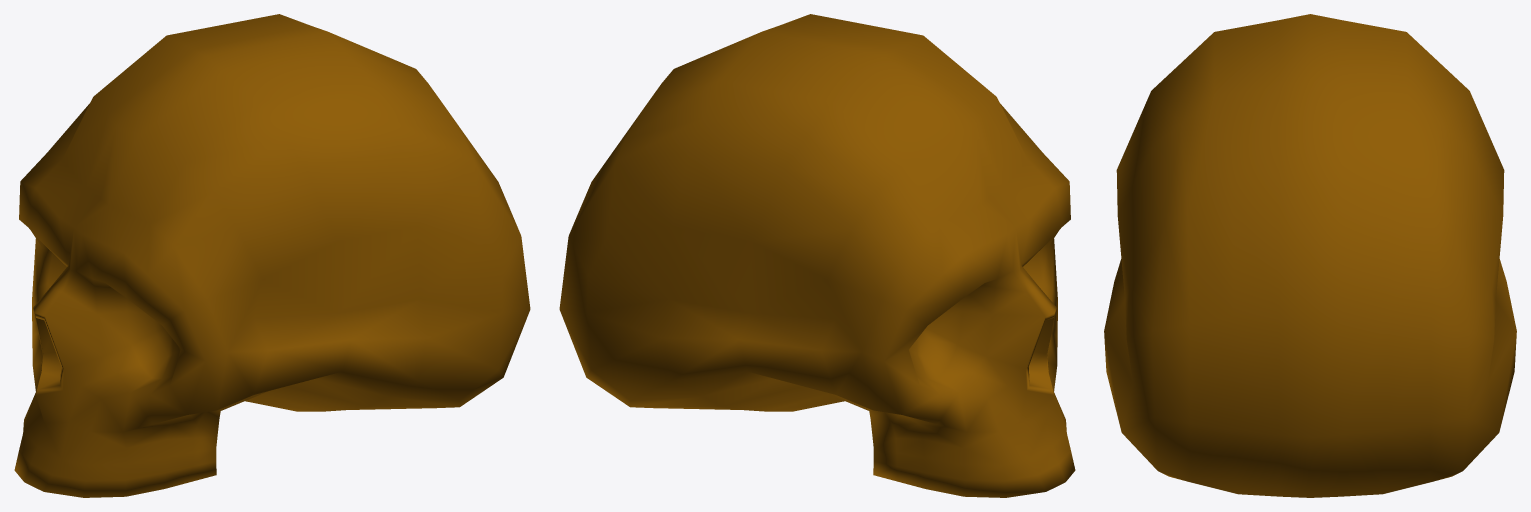
File: Skull_A.fbx
The picture shows the model from 3 angles, left to right: view 1: azimuth 30°, elevation 25°; view 2: azimuth 150°, elevation 25°; view 3: azimuth 270°, elevation 25°; orthographic projection. The views are drawn at different scales.
Parts seen in each view (by area): view 1: Skull_A; view 2: Skull_A; view 3: Skull_A.
Boxes of the visible parts, x1,y1,x2,y2 form: Skull_A: (14, 14, 530, 497); Skull_A: (559, 14, 1075, 497); Skull_A: (1104, 14, 1516, 497).
Bounding box in the file's own units: 33.4 × 27.16 × 24.74.
